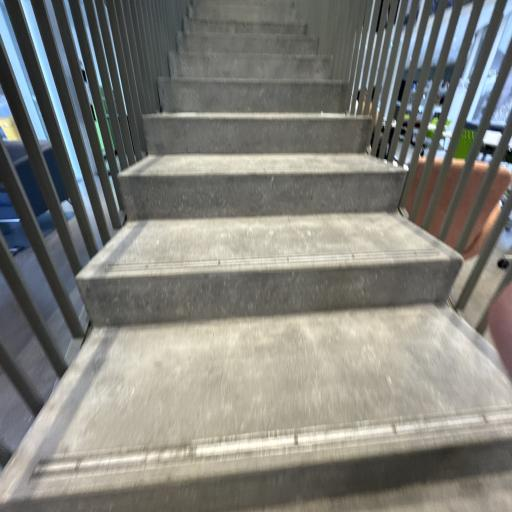Stairs: (0, 0, 512, 512), (0, 305, 512, 512), (76, 212, 462, 326), (119, 154, 406, 220), (143, 112, 373, 155), (158, 77, 348, 113), (168, 52, 332, 80), (177, 32, 319, 55), (184, 17, 308, 35)
